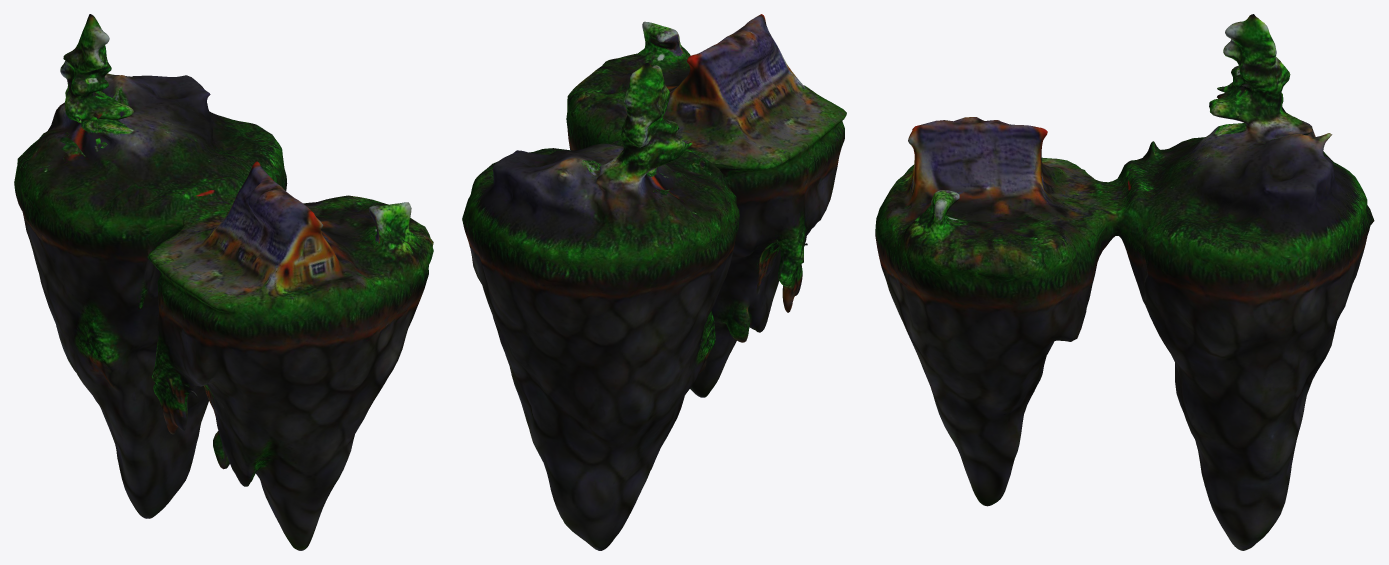
File: 853c5b5b6ef3_high_resolution_rea.fbx
The picture shows the model from 3 angles, left to right: view 1: azimuth 30°, elevation 25°; view 2: azimuth 150°, elevation 25°; view 3: azimuth 270°, elevation 25°; orthographic projection. The views are drawn at different scales.
Parts seen in each view (by area): view 1: mesh; view 2: mesh; view 3: mesh.
Part boxes in pixels (bbox=[...]): mesh: bbox=[14, 14, 433, 550]; mesh: bbox=[462, 14, 846, 550]; mesh: bbox=[875, 14, 1374, 550].
Bounding box in the file's own units: 53.35 × 99.31 × 88.03.
